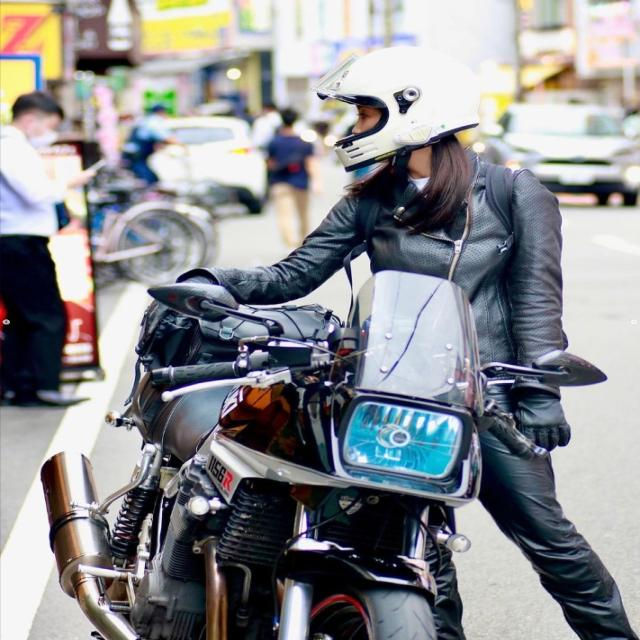helmet: (308, 42, 486, 177)
